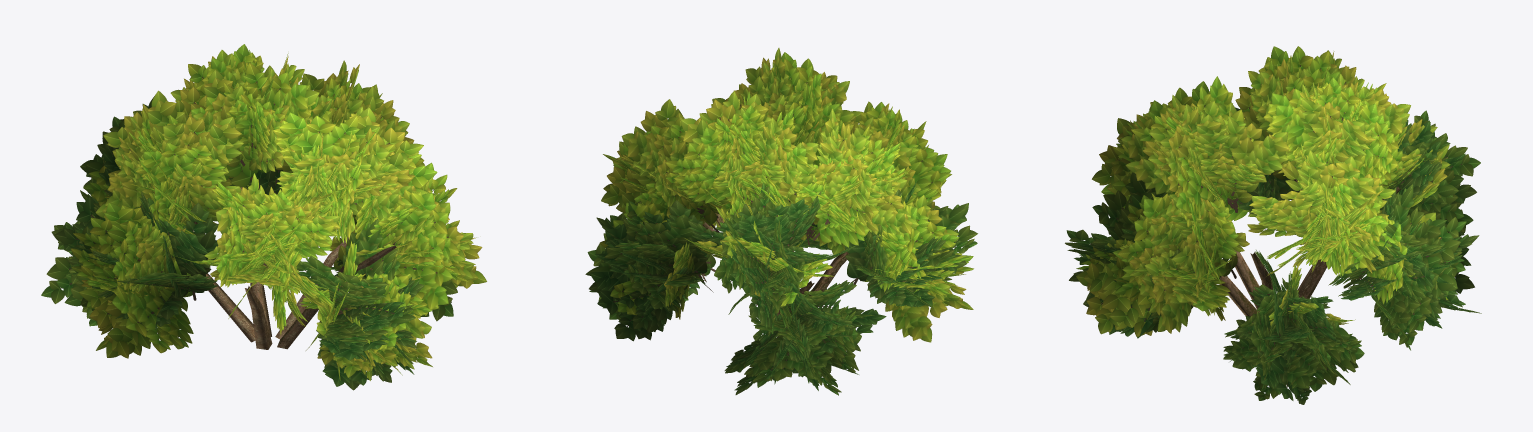
File: busch-1.glb
3 views of the same model, side by side, from view 1: azimuth 30°, elevation 25°; view 2: azimuth 150°, elevation 25°; view 3: azimuth 270°, elevation 25° (orthographic). The views are drawn at different scales.
Parts seen in each view (by area): view 1: busch-1; view 2: busch-1; view 3: busch-1.
Part boxes in pixels (x1,y1,x2,y2): busch-1: (41, 44, 486, 390); busch-1: (585, 48, 977, 395); busch-1: (1065, 46, 1481, 404).
Bounding box in the file's own units: 2.6 × 1.65 × 2.57.
Materials: 2 (2 with a texture image).
